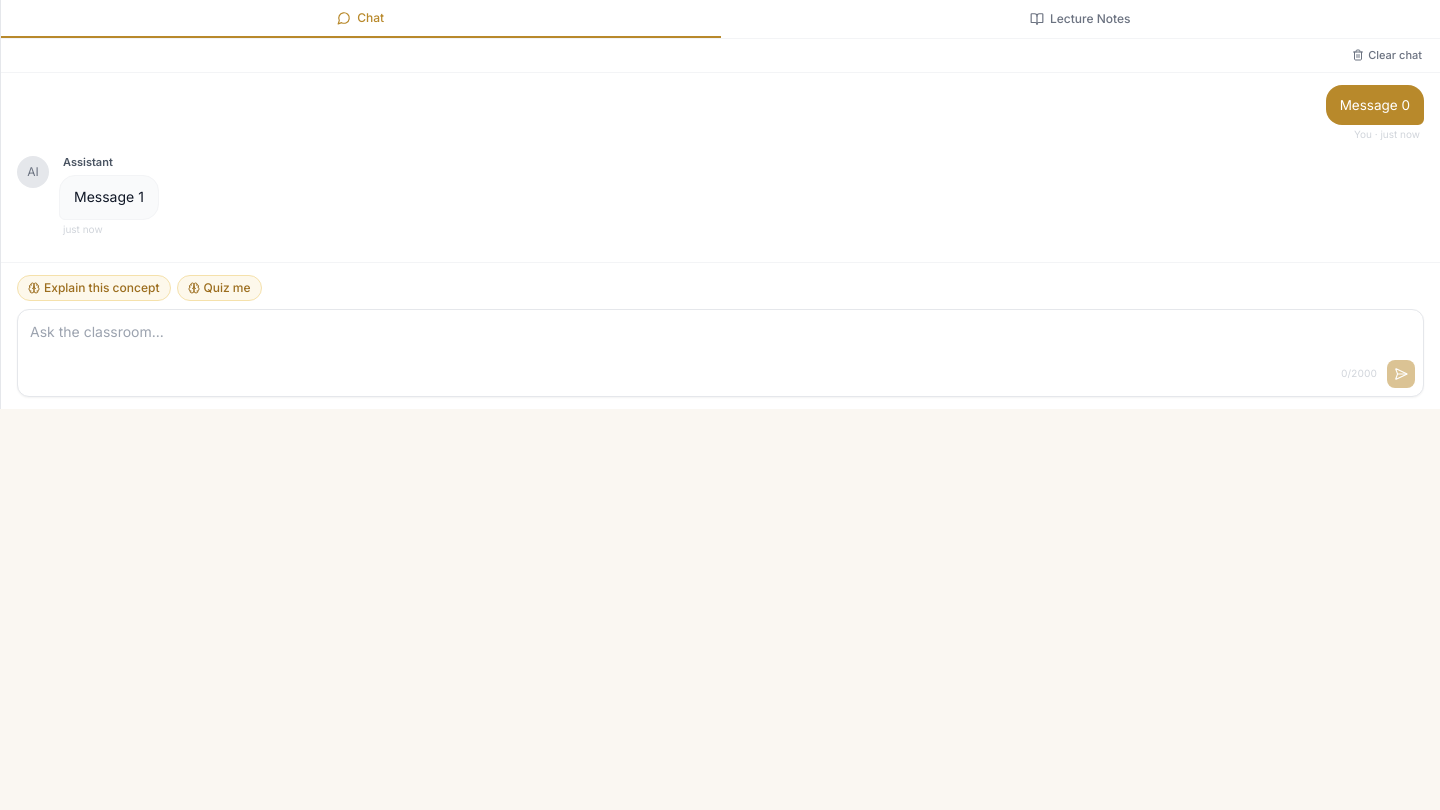
ChatPanel — clear-chat confirm path › closes the dialog and preserves messages when "Keep messages" is clicked
Note: Open dialog
Click the button "Clear chat" at (1387, 55), box [1346, 45, 1428, 66]
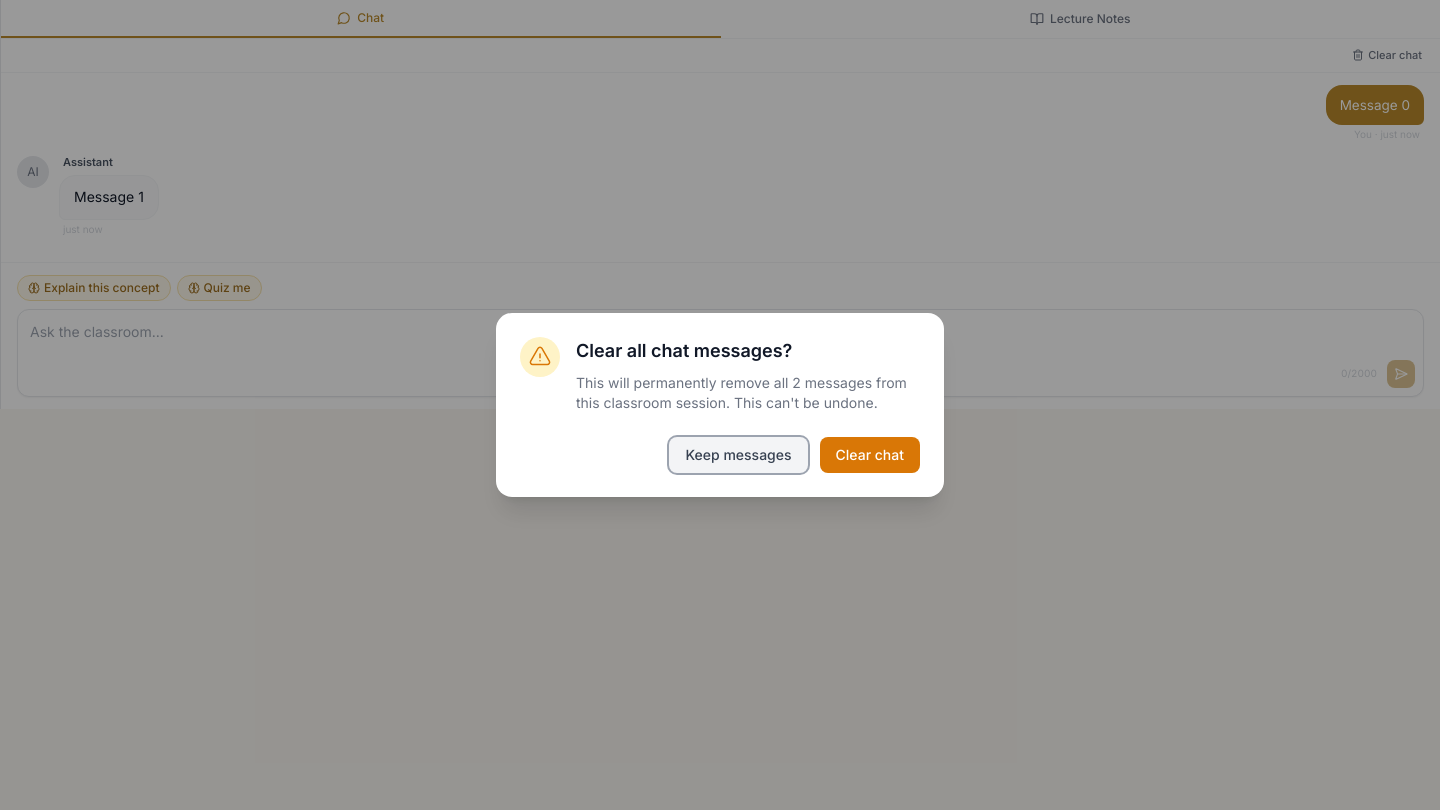
Check: the heading "Clear all chat messages?" is shown, box [576, 340, 792, 361]
Note: Click cancel
Click the button "Keep messages" at (738, 455), box [670, 437, 808, 473]
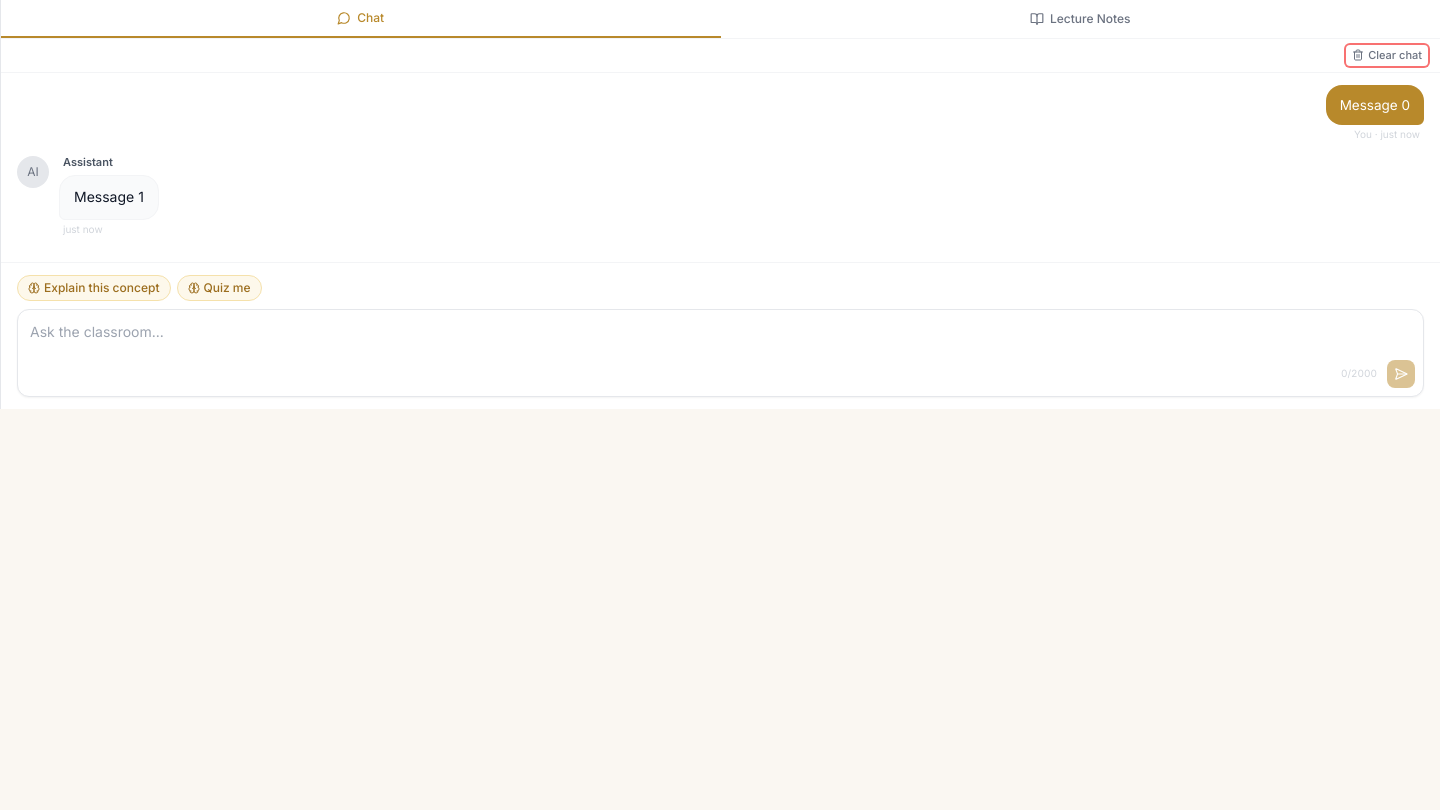
Check: the heading "Clear all chat messages?" is gone
